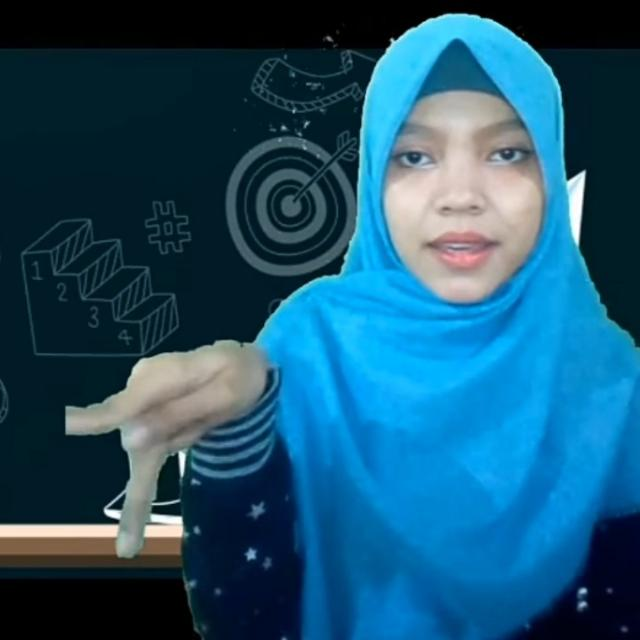P: (62, 336, 274, 570)
